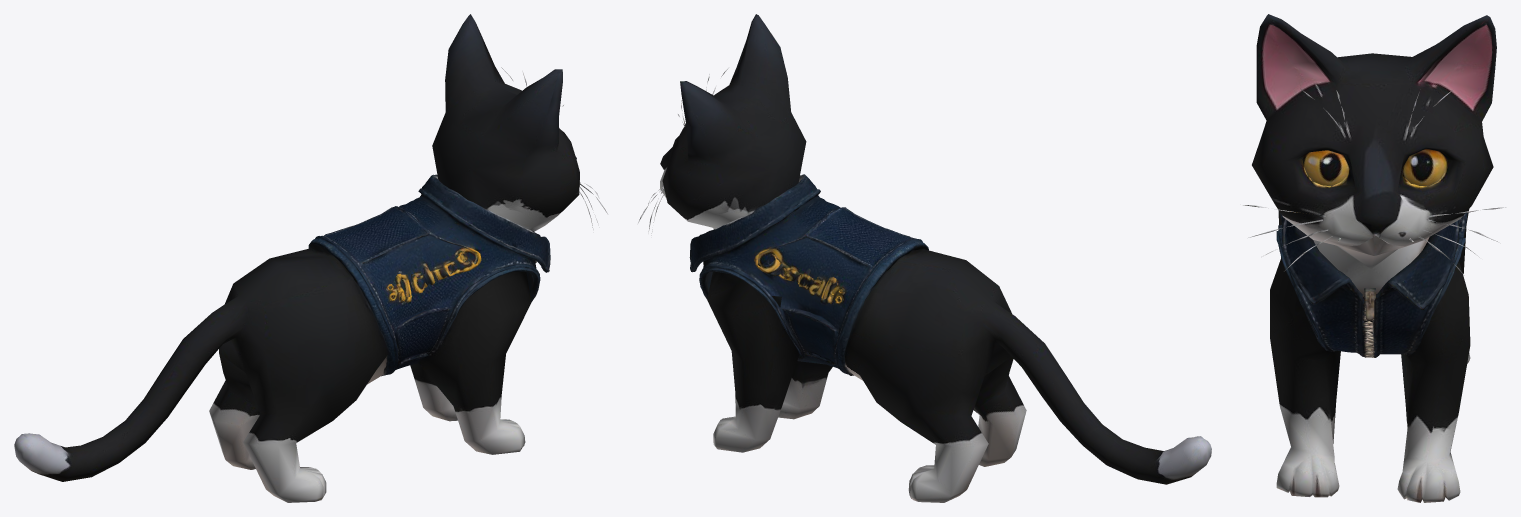
The model's file is cat-oscar.glb.
The picture shows the model from 3 angles, left to right: view 1: azimuth 30°, elevation 25°; view 2: azimuth 150°, elevation 25°; view 3: azimuth 270°, elevation 25°; orthographic projection. The views are drawn at different scales.
Visible parts, largest first — view 1: tripo_node_57edd303-2ab6-47d5-a7ba-823863a0524a; view 2: tripo_node_57edd303-2ab6-47d5-a7ba-823863a0524a; view 3: tripo_node_57edd303-2ab6-47d5-a7ba-823863a0524a.
Part boxes in pixels (bbox=[...]): tripo_node_57edd303-2ab6-47d5-a7ba-823863a0524a: bbox=[14, 14, 607, 502]; tripo_node_57edd303-2ab6-47d5-a7ba-823863a0524a: bbox=[637, 14, 1211, 502]; tripo_node_57edd303-2ab6-47d5-a7ba-823863a0524a: bbox=[1243, 14, 1505, 502].
Size of the model in its own units: 0.998 by 0.6543 by 0.3145.
Materials: 1 (1 with a texture image).
